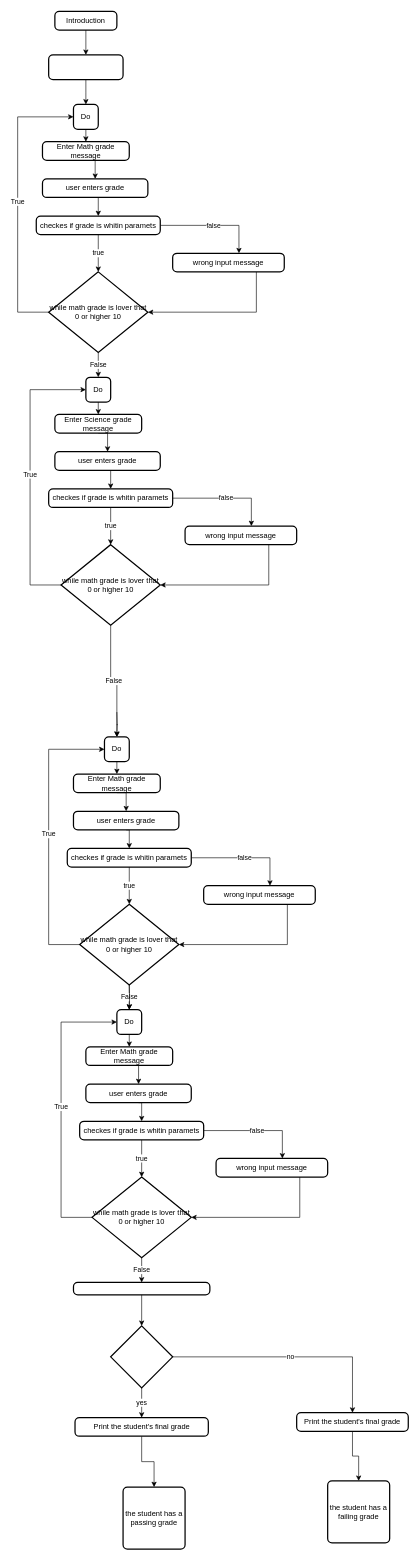
Image size: 419x1560. Some labels were removed from this diagram. The centre of each missing label's shape, as x and y in pixels:
"Calculate the average of all grades" goes at (x=141, y=1288).
"Decive if the grade is below or above 3" goes at (x=141, y=1356).
"Initialize variables" goes at (x=85, y=67).
